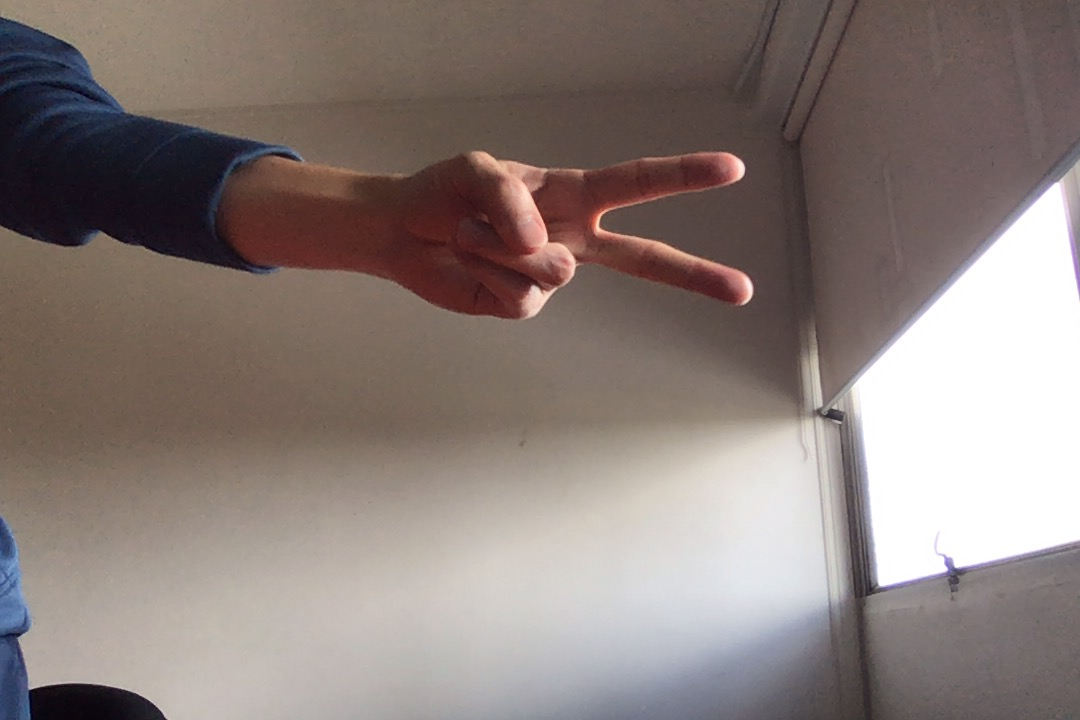peacesign: (382, 139, 761, 337)
